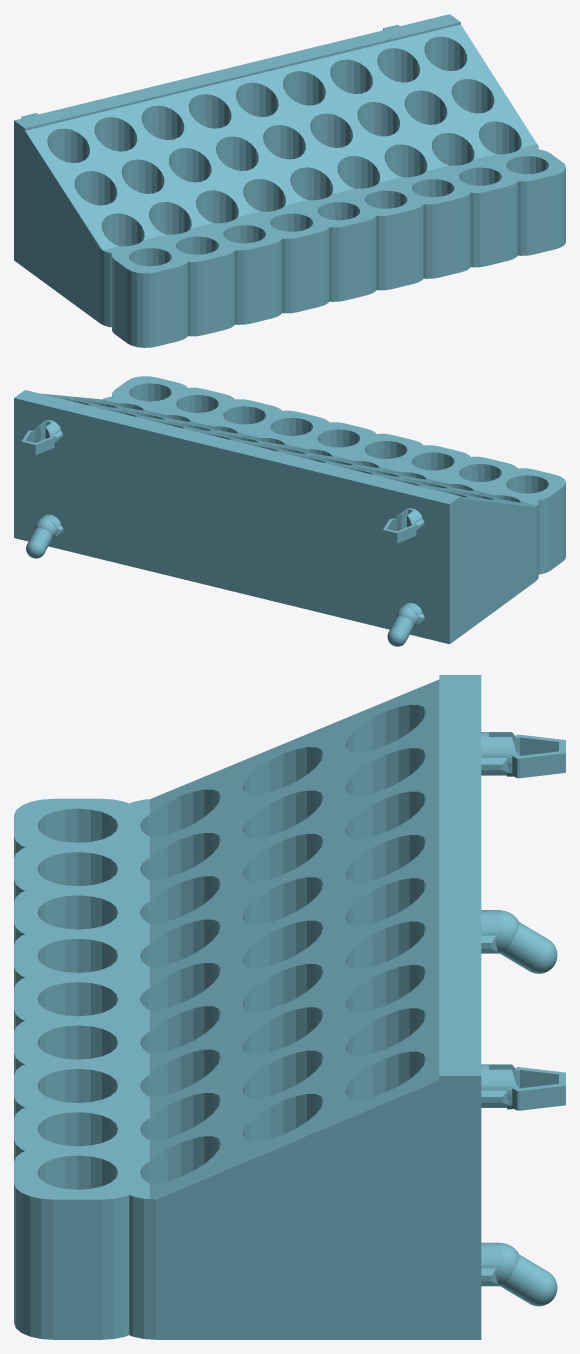
File: part-p09-36__current-mounts-flat-top-v2__fit-pf02c9-hoop5__print.glb
The picture shows the model from 3 angles, top to bottom: view 1: azimuth 30°, elevation 25°; view 2: azimuth 150°, elevation 25°; view 3: azimuth 270°, elevation 25°; orthographic projection. The views are drawn at different scales.
Visible parts, largest first — view 1: print.stl; view 2: print.stl; view 3: print.stl.
Boxes of the visible parts, x1,y1,x2,y2 form: print.stl: (14,14,565,347); print.stl: (14,376,565,646); print.stl: (14,675,565,1339).
Bounding box in the file's own units: 0.1225 × 0.0376 × 0.0713.
